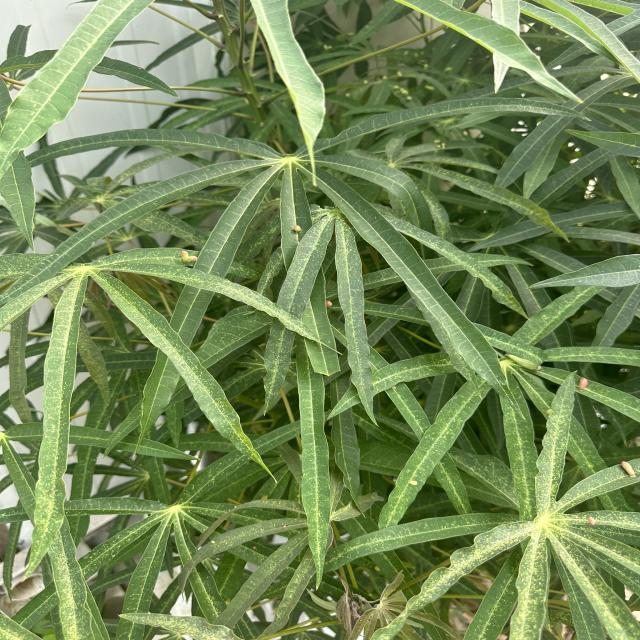Mosca: (177, 243, 200, 269), (289, 215, 307, 239), (405, 476, 424, 489), (322, 297, 339, 307)
